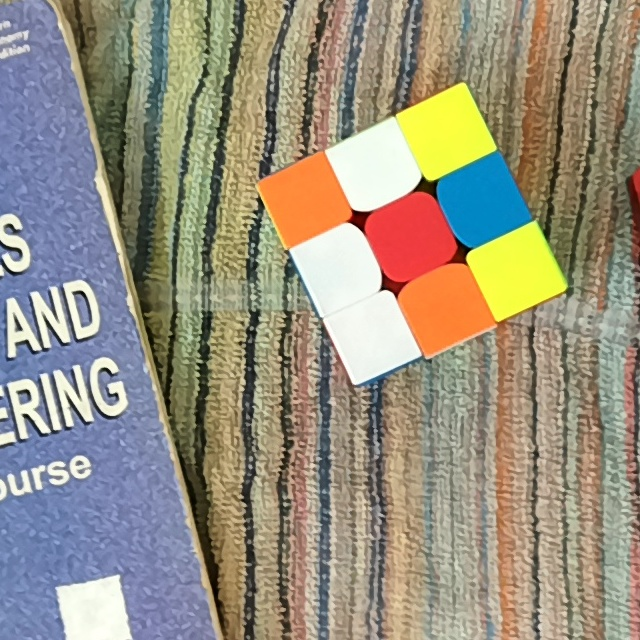tile: (456, 173, 511, 230), (418, 279, 472, 335), (387, 207, 441, 262), (276, 174, 330, 228), (347, 310, 398, 366), (312, 239, 365, 292), (420, 105, 472, 159), (489, 244, 542, 296), (353, 141, 400, 192)
